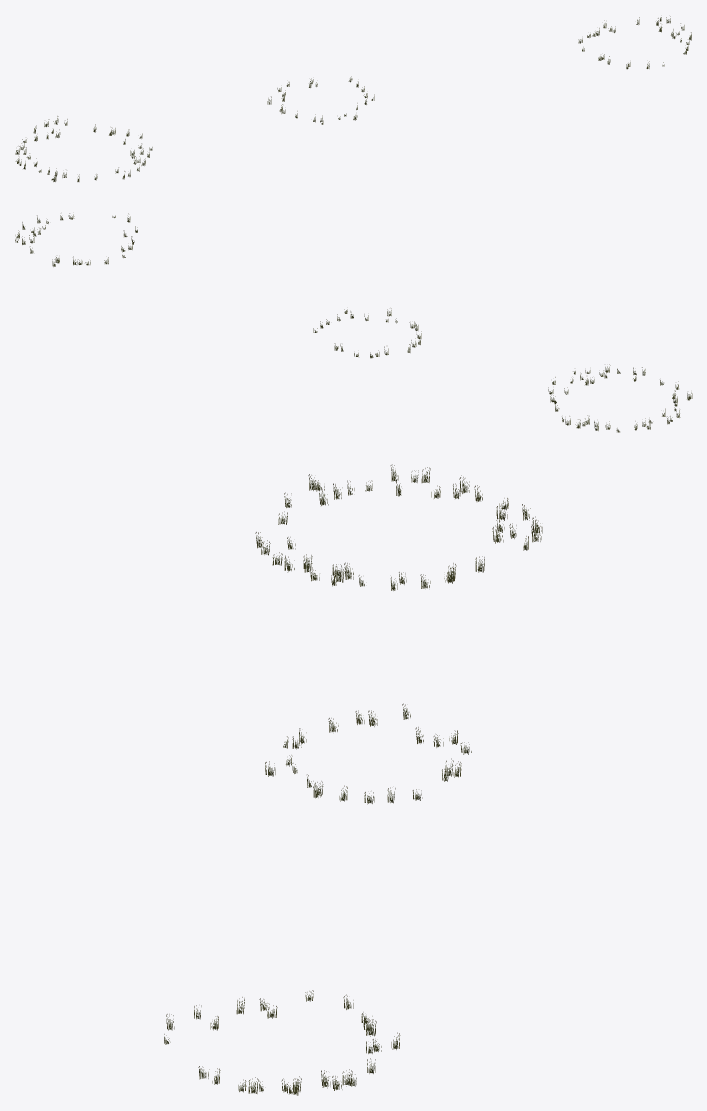
Rendered from SM_Art_Cover_L_HighmooreRoad_Reeds.gltf.
3 renders of one model, top to bottom at view 1: azimuth 30°, elevation 25°; view 2: azimuth 150°, elevation 25°; view 3: azimuth 270°, elevation 25°, orthographic. The views are drawn at different scales.
Parts seen in each view (by area): view 1: SM_Art_Cover_L_HighmooreRoad_Reeds; view 2: SM_Art_Cover_L_HighmooreRoad_Reeds; view 3: SM_Art_Cover_L_HighmooreRoad_Reeds.
Part boxes in pixels (x1=…): SM_Art_Cover_L_HighmooreRoad_Reeds: x1=15, y1=16, x2=691, y2=181; SM_Art_Cover_L_HighmooreRoad_Reeds: x1=15, y1=213, x2=692, y2=432; SM_Art_Cover_L_HighmooreRoad_Reeds: x1=164, y1=464, x2=542, y2=1095.
Size of the model in its own units: 114 by 2.24 by 29.61.
1 material, 1 textured.
